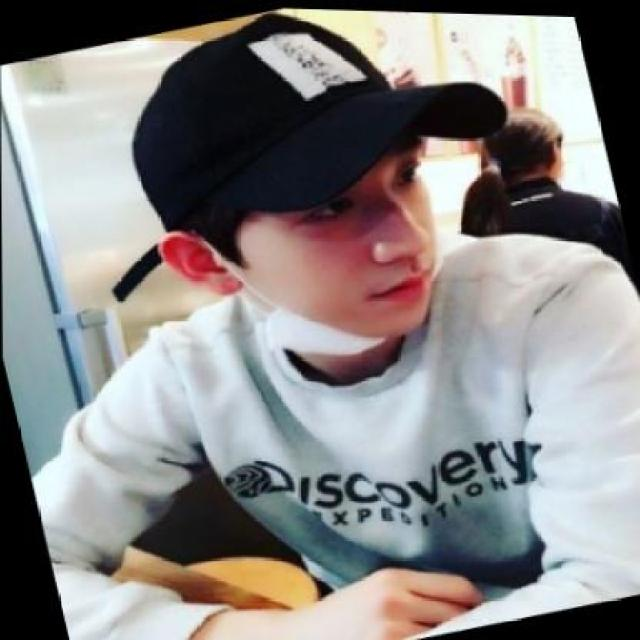hat: (103, 2, 525, 253)
